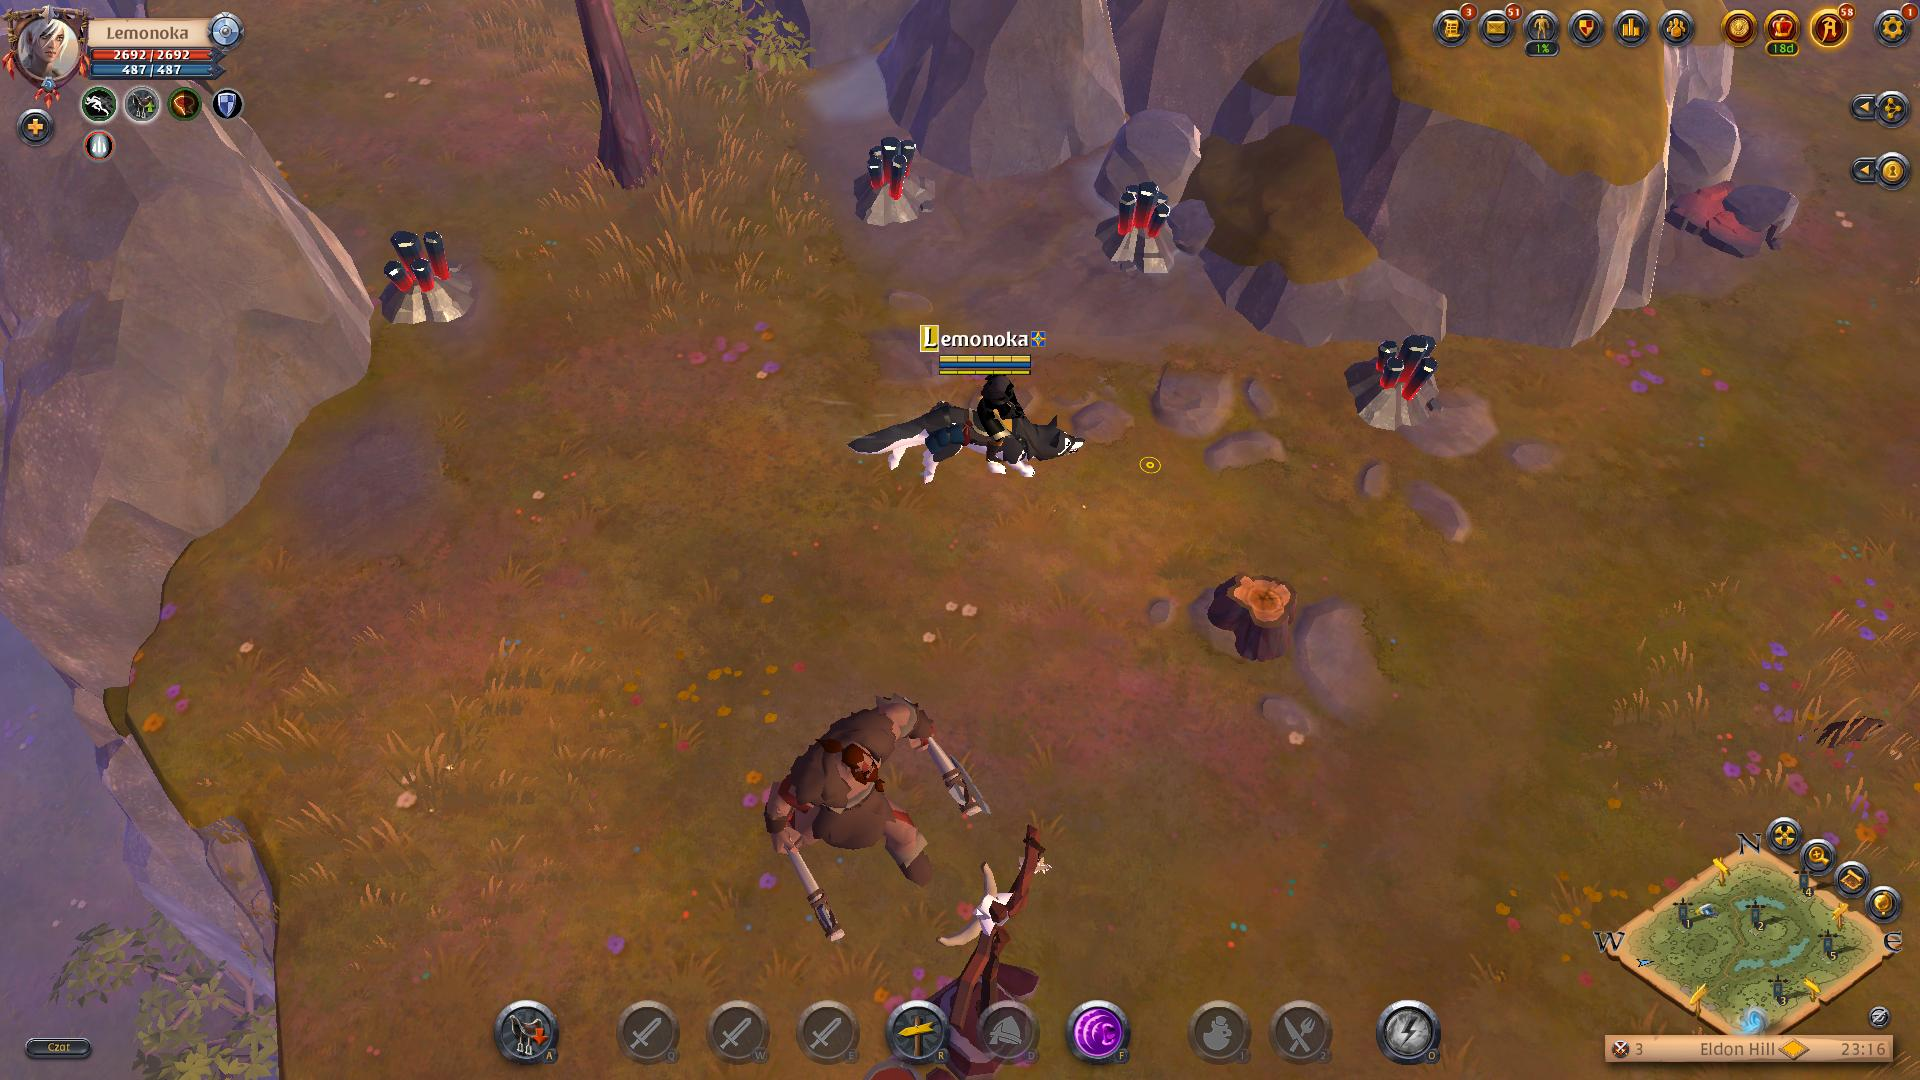ore tier 5: (364, 225, 480, 332), (1341, 327, 1448, 435), (1092, 178, 1192, 289), (845, 131, 942, 228)
